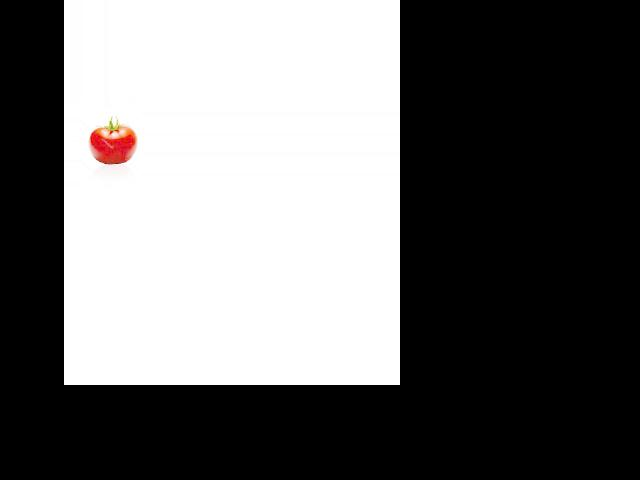tomato: (88, 125, 137, 164)
